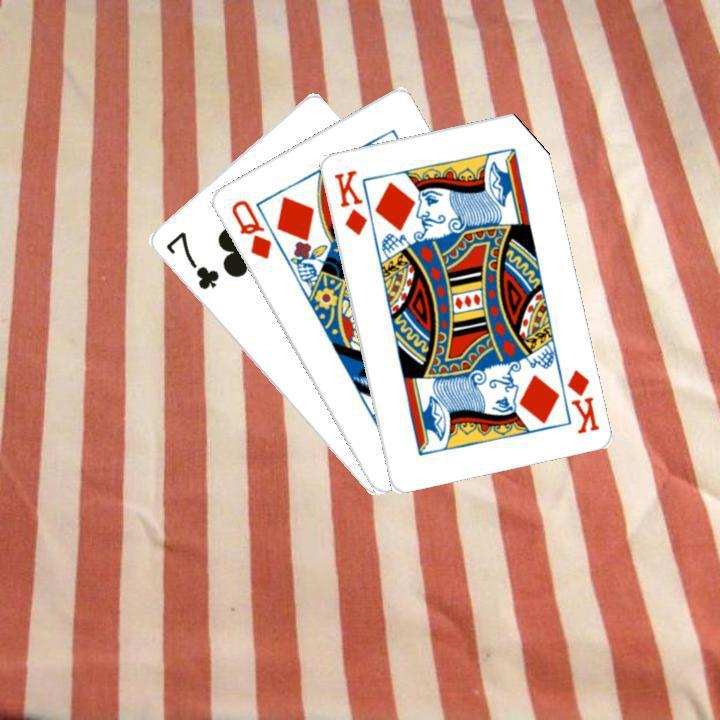7: (160, 227, 221, 292)
K: (329, 165, 369, 238), (562, 365, 601, 435)
Q: (226, 195, 273, 261)
